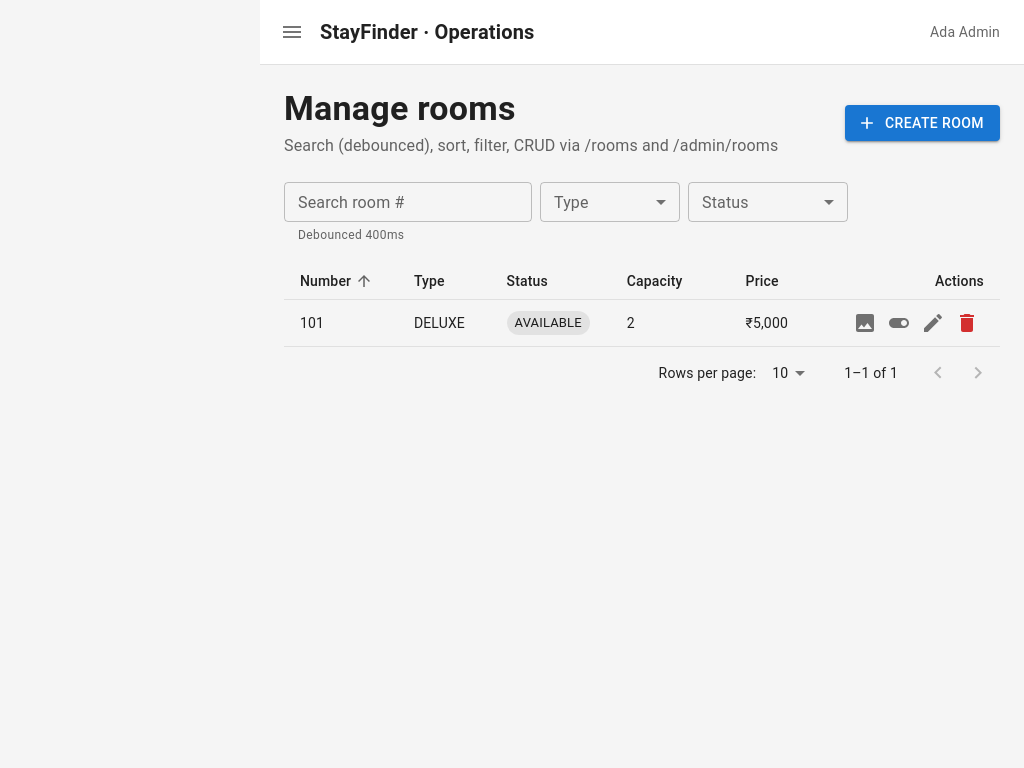
Test case: management pages › rooms page lists rooms and opens create
Expected: the element with test id "admin-rooms-page" is shown, left=284, top=88, right=1000, bottom=399
Expected: the text "101" is shown, left=284, top=300, right=398, bottom=347
Click the button "Create room": (923, 123) left=845, top=105, right=1000, bottom=141
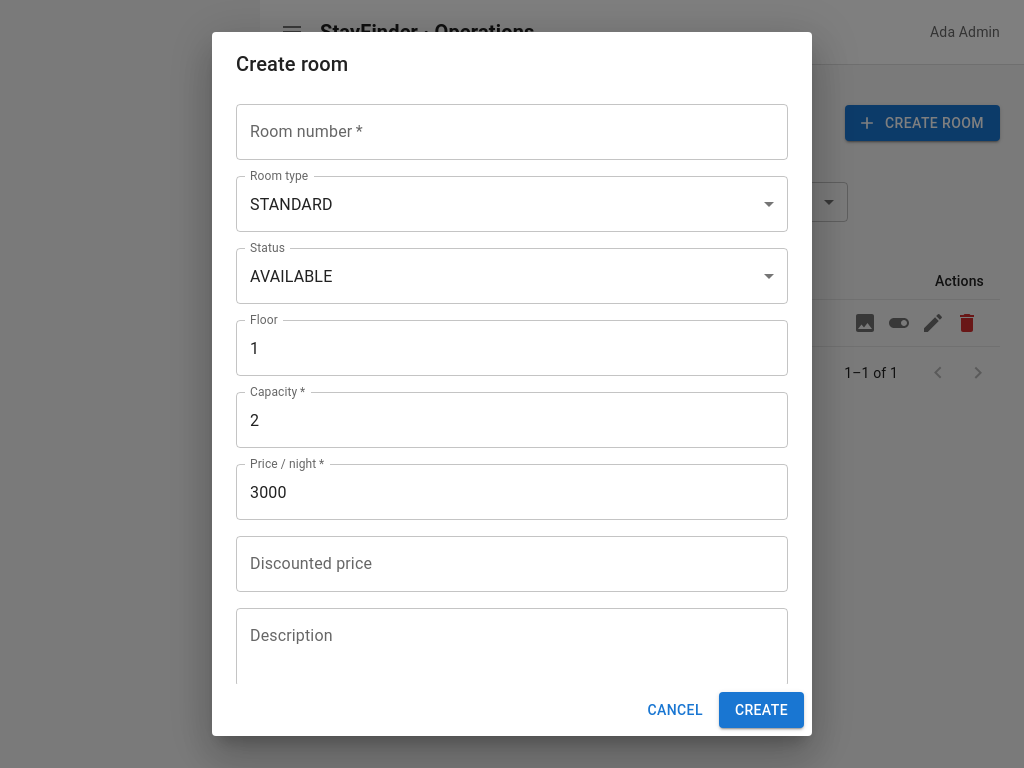
Result: the dialog is shown at left=212, top=32, right=812, bottom=736
Result: the heading "Create room" is shown at left=236, top=52, right=348, bottom=76
